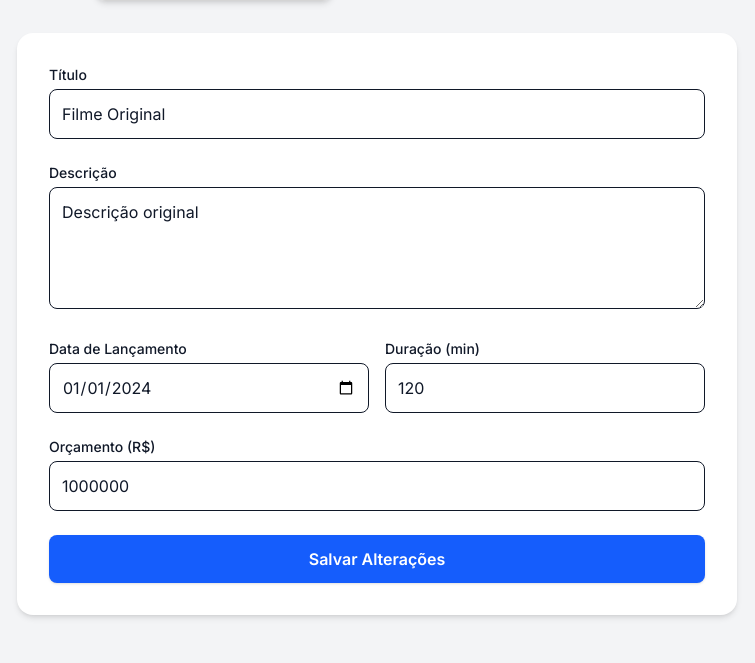
it: Edit Movie Page › Form Validation › should validate numeric fields
The image size is (755, 663).
(page scrolled)
Replace the text in the number field named "duration" below "Duração (min)" with "-1". click: (545, 388)
box: [385, 363, 705, 413]
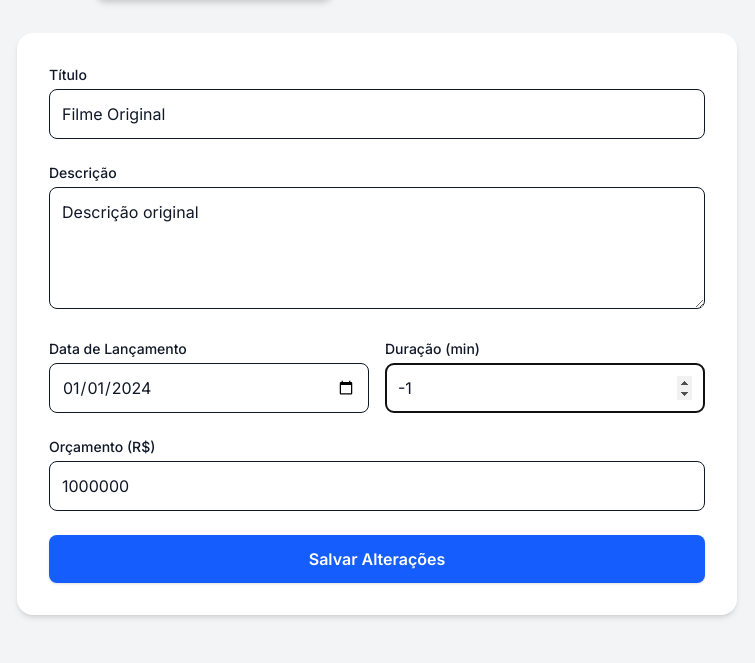
Replace the text in the number field named "budget" below "Orçamento (R$)" with "-1". click: (377, 486)
box: [49, 461, 705, 511]
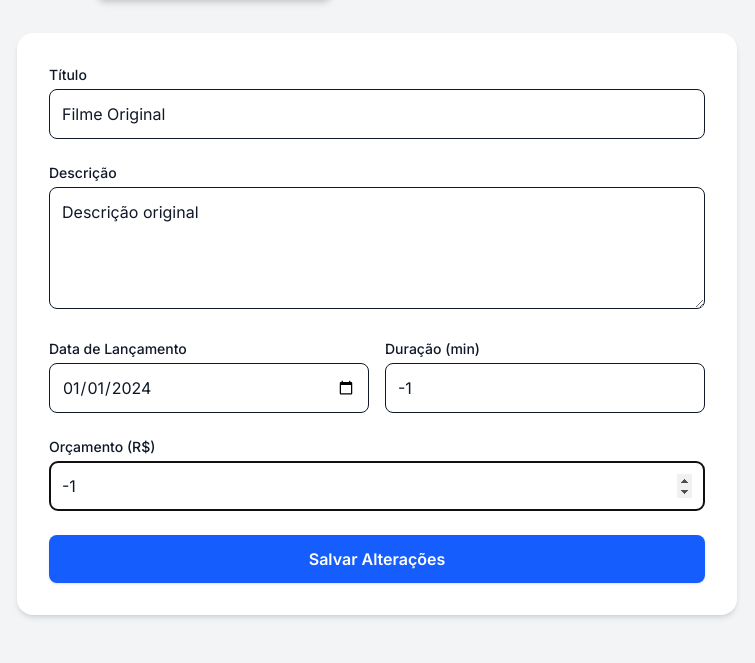
Submit the form
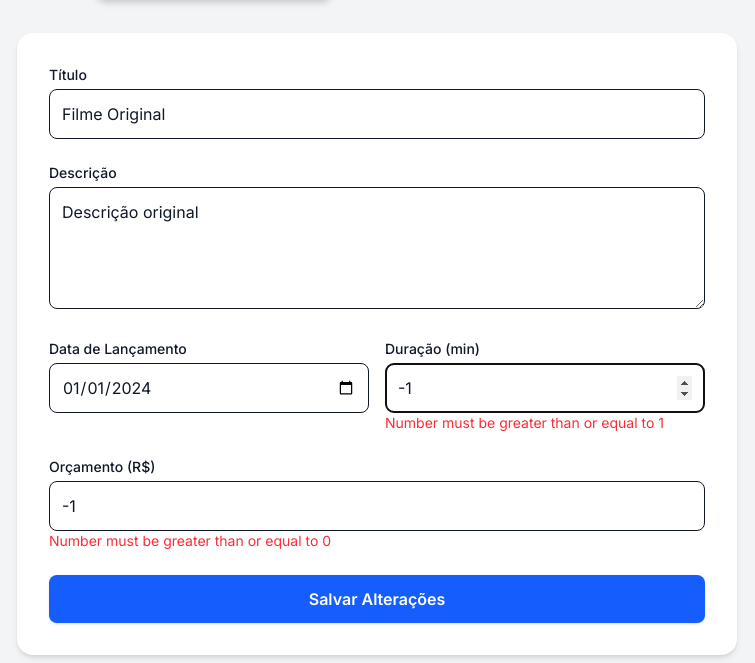
Now the text "Number must be greater than or equal to 1" is shown, box [385, 413, 705, 433]
Now the text "Number must be greater than or equal to 0" is shown, box [49, 532, 331, 549]
